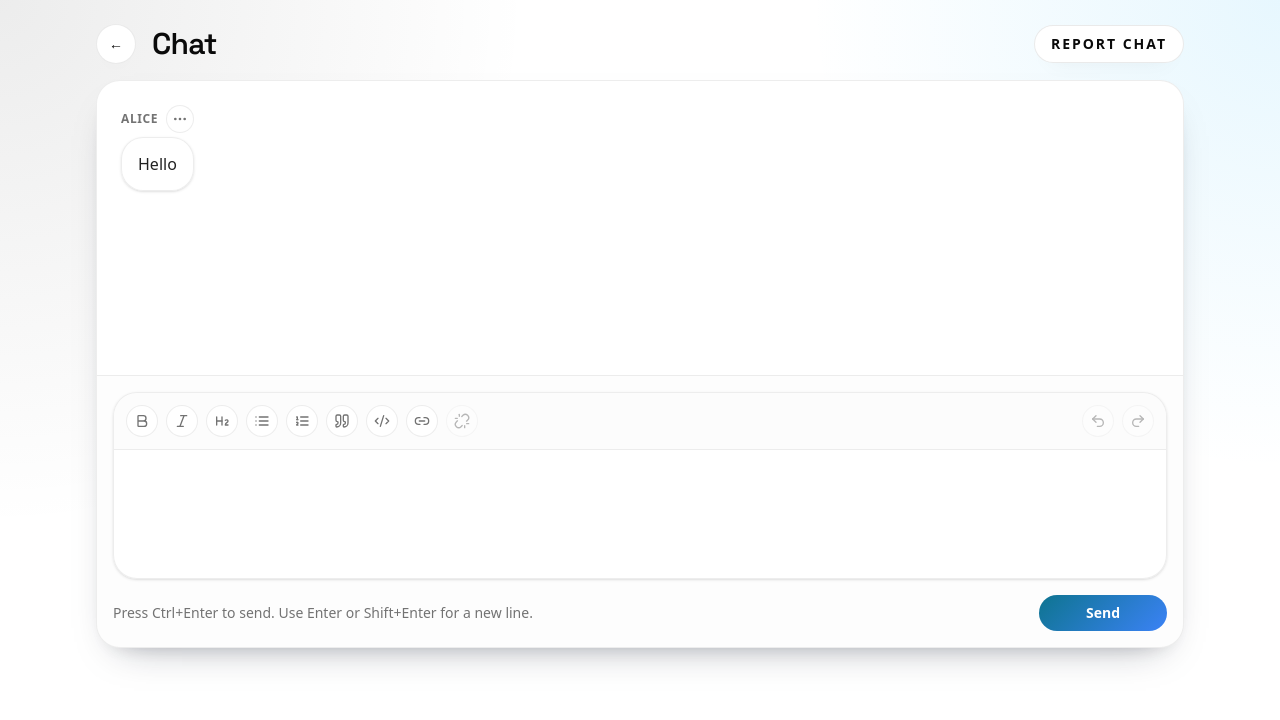
it: ChatClient › shows admin hide errors for other users messages
The image size is (1280, 720).
Click the button named "Open message actions": [180, 119] box [166,105,194,133]
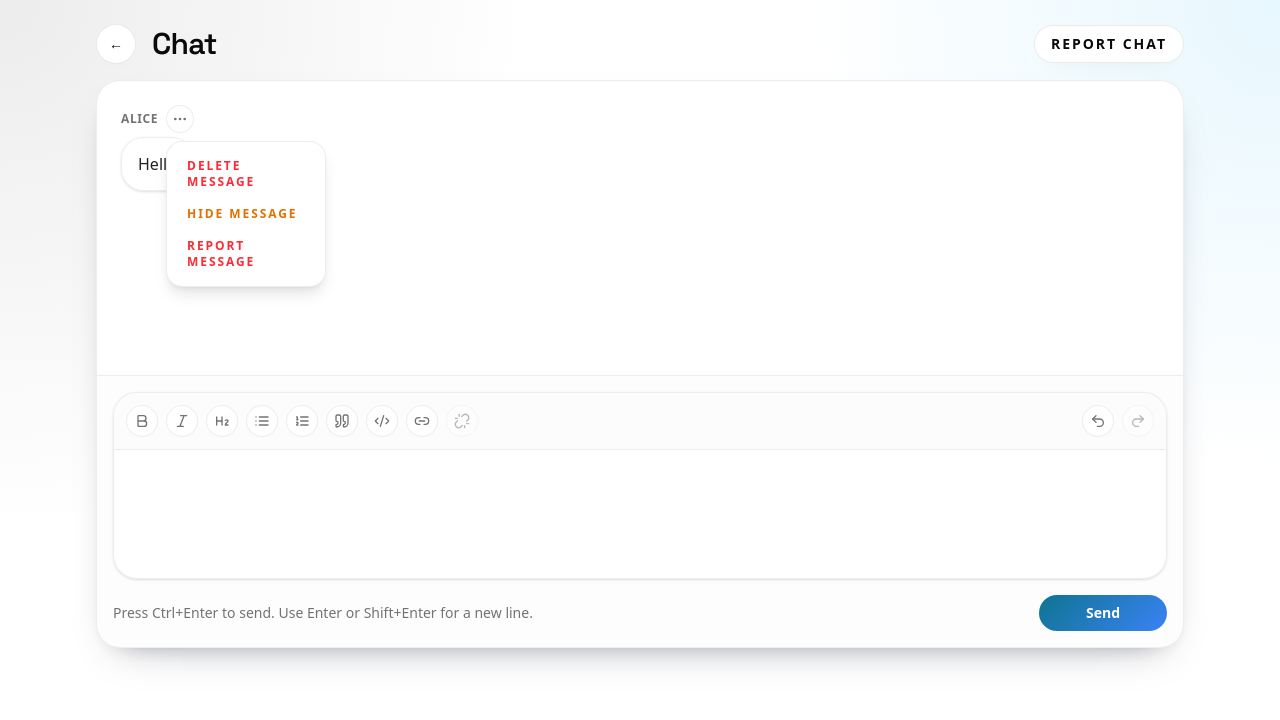
Result: the button "Hide message" is shown
Result: the button "Delete message" is shown at [175,150,317,198]
Click the button "Hide message": [246, 214] box [175,198,317,230]
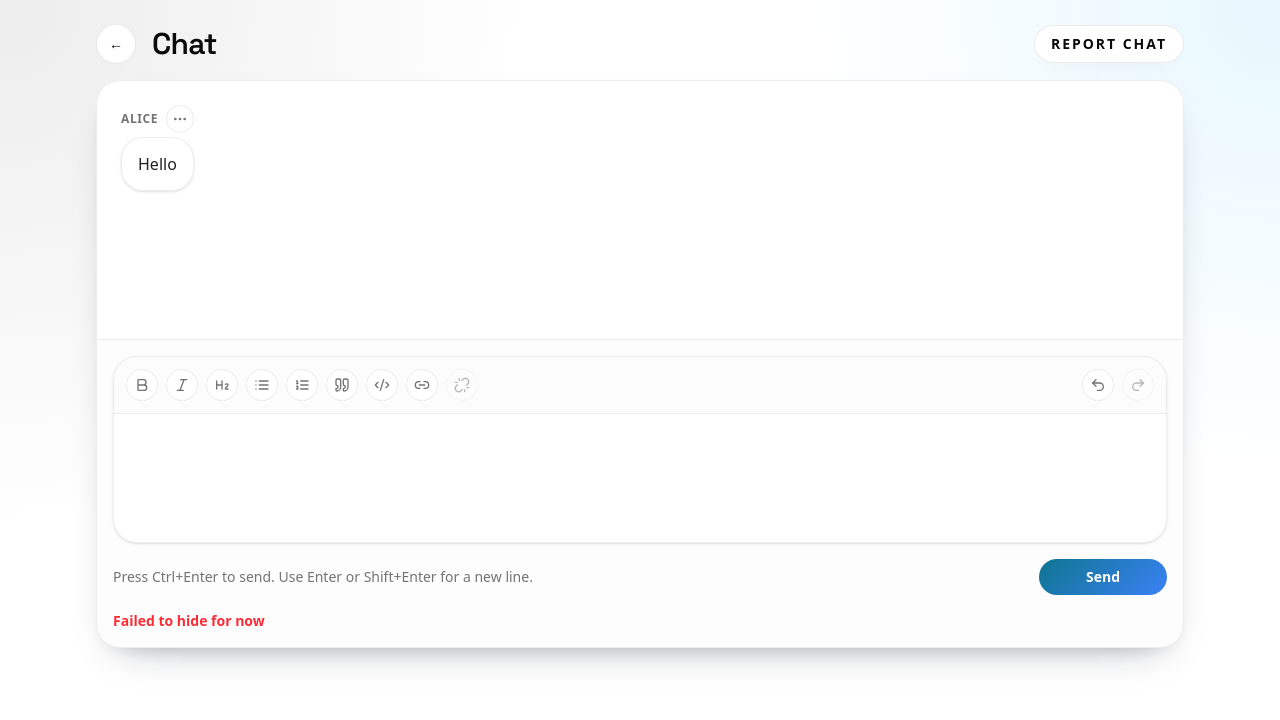
Result: the text "Failed to hide for now" is shown at [113,611,265,630]
